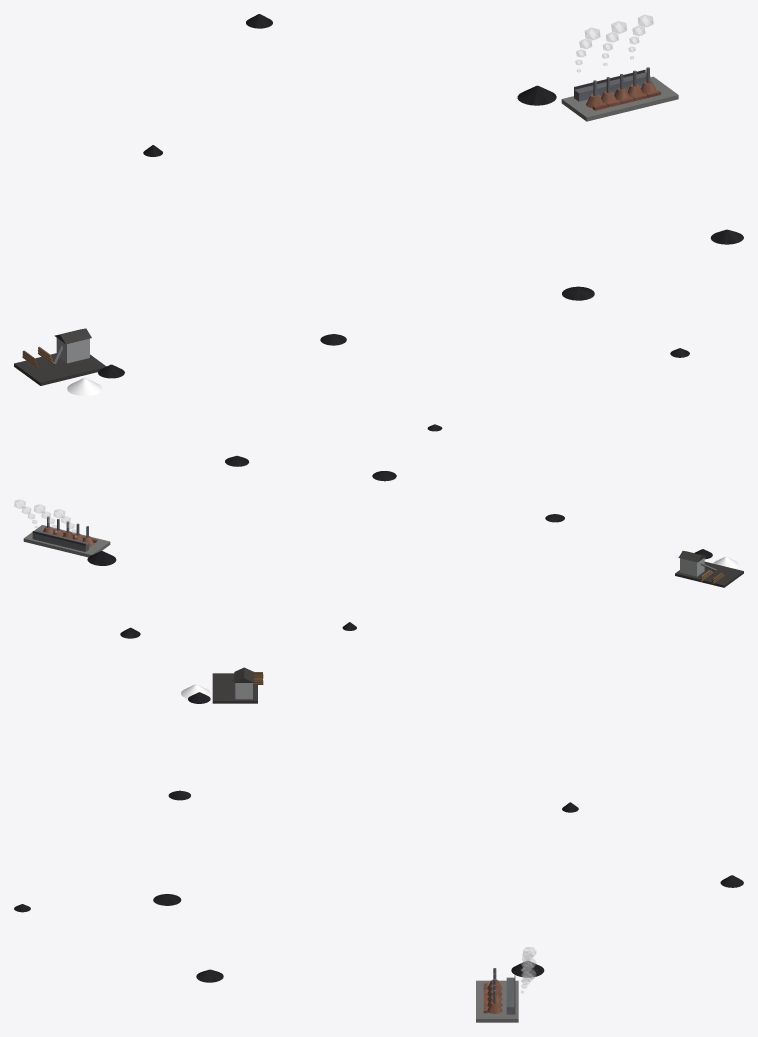
The model's file is Theme_P2.fbx.
The picture shows the model from 3 angles, top to bottom: view 1: azimuth 30°, elevation 25°; view 2: azimuth 150°, elevation 25°; view 3: azimuth 270°, elevation 25°; orthographic projection. The views are drawn at different scales.
Visible parts, largest first — view 1: Theme.CokeOvens, Theme.Screens; view 2: Theme.CokeOvens, Theme.Screens; view 3: Theme.CokeOvens, Theme.Screens.
Boxes of the visible parts, bbox=[...] form: Theme.CokeOvens: bbox=[561, 67, 678, 121]; Theme.Screens: bbox=[14, 328, 106, 385]; Theme.CokeOvens: bbox=[23, 516, 110, 557]; Theme.Screens: bbox=[675, 551, 743, 587]; Theme.CokeOvens: bbox=[476, 968, 518, 1022]; Theme.Screens: bbox=[212, 667, 263, 703].
Bounding box in the file's own units: 31224 × 2320 × 28979.
